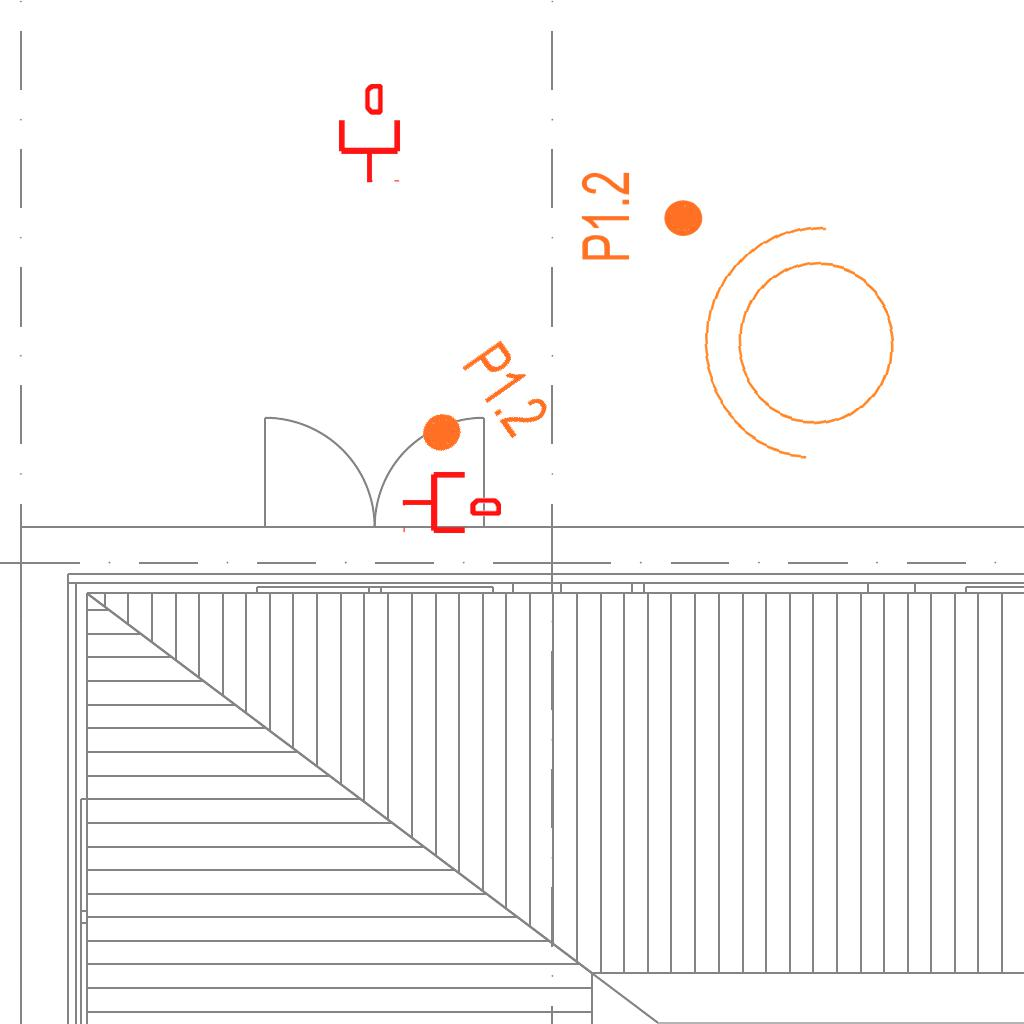Datenanschluss_einfach: (335, 84, 404, 184), (401, 468, 501, 537)
Downlight_LED_Einbauleuchten_Flur: (397, 335, 556, 485), (578, 170, 706, 263)
Scheinwerfer_fuer_Alarmbeleuchtung: (682, 207, 930, 490)
